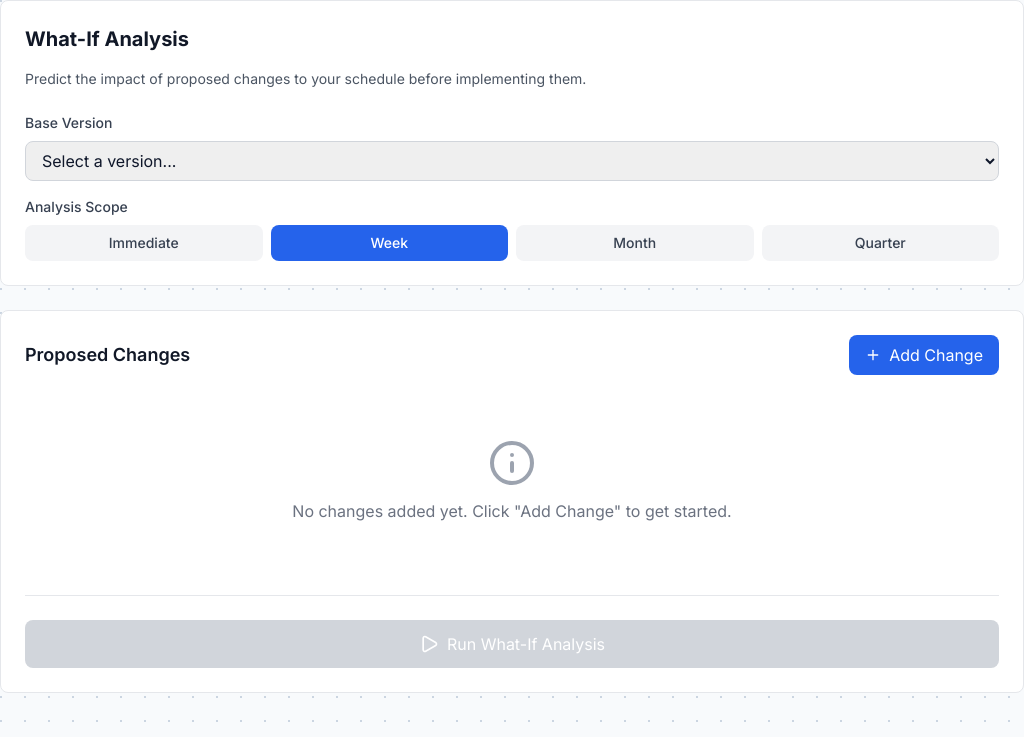
Test: WhatIfAnalysis › Adding Changes › should add a change when Add Change button clicked
This screenshot has width=1024, height=737.
Click the button "Add Change": (924, 355) [849,335,999,375]
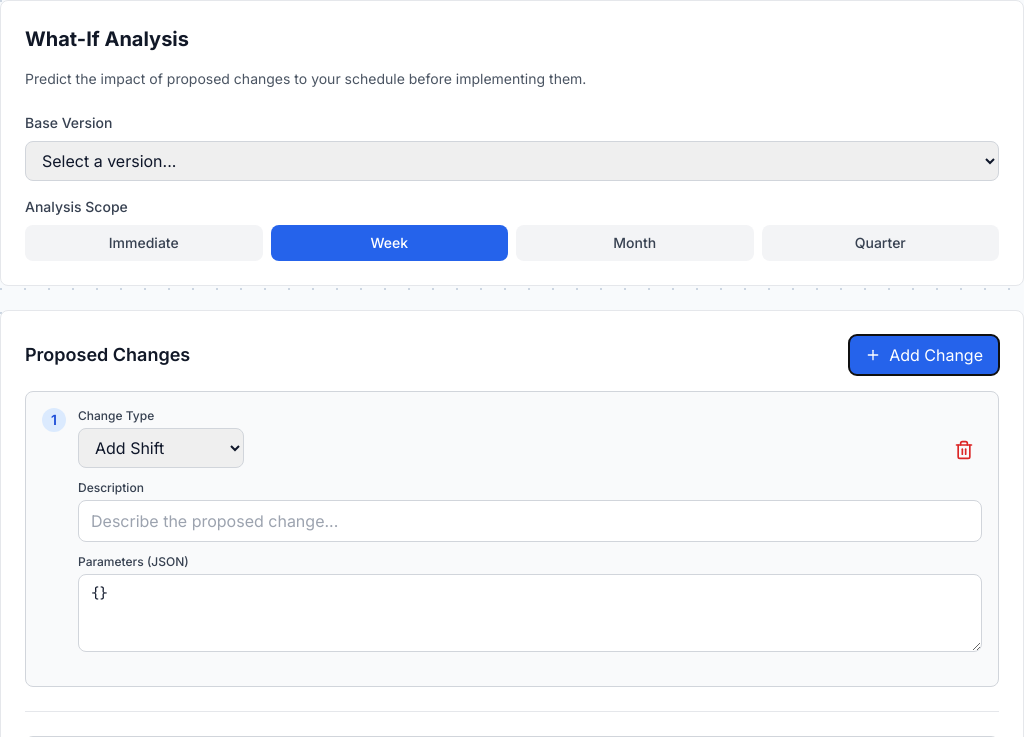
Now the text "Change Type" is shown, box [78,408,154,423]
Now the text "Description" is shown, box [78,480,144,495]
